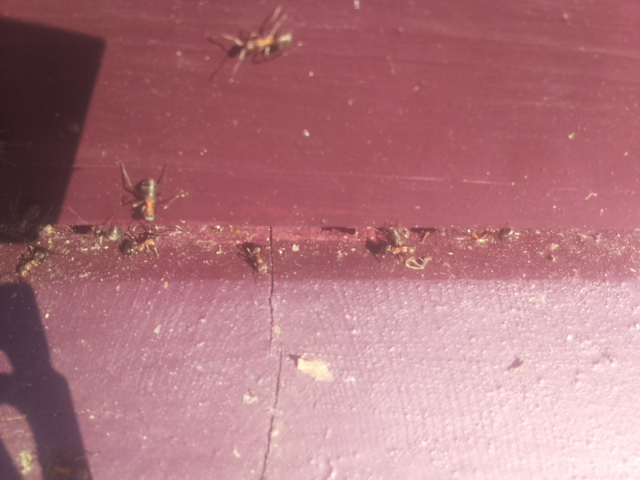ant: (228, 23, 297, 69), (11, 236, 56, 284), (128, 170, 165, 225), (120, 228, 163, 260), (241, 239, 269, 278)
